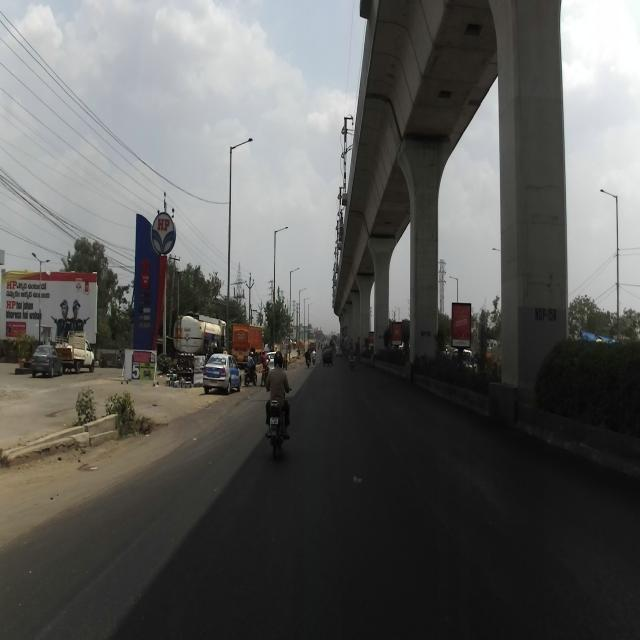Car_Toyota: (202, 350, 242, 394), (30, 342, 63, 379)
motorcycle_Hero: (265, 384, 292, 459)
truck: (56, 331, 96, 374)
